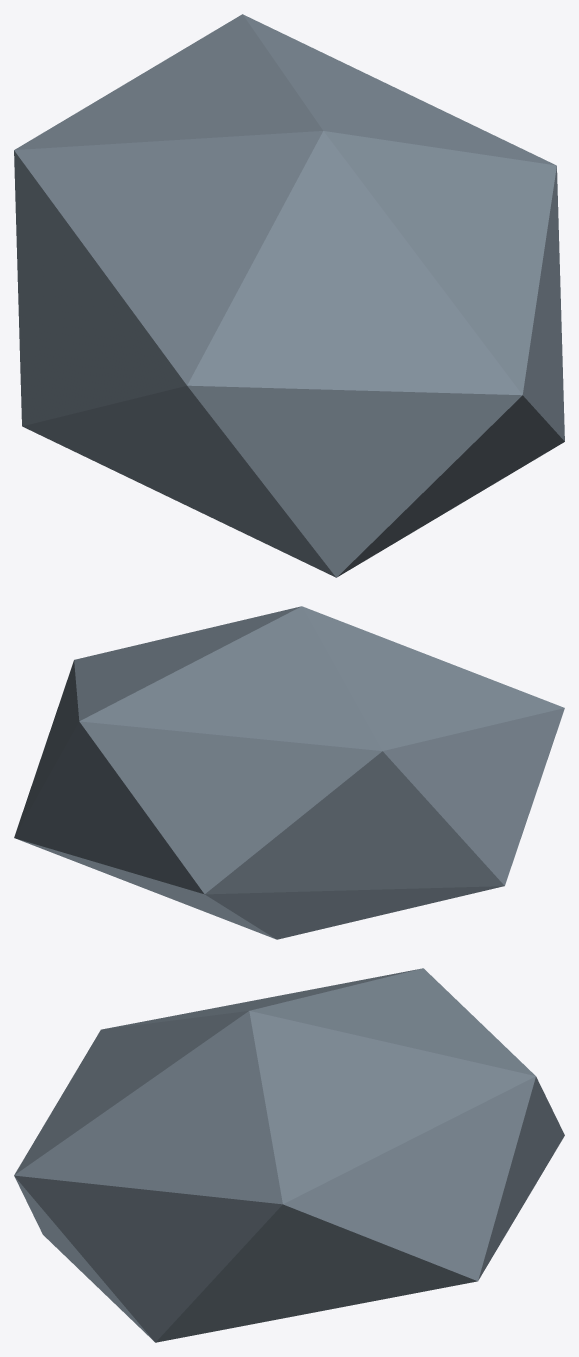
File: INT_A_WallRubble_00_Stone_3.glb
3 views of the same model, one above another, from view 1: azimuth 30°, elevation 25°; view 2: azimuth 150°, elevation 25°; view 3: azimuth 270°, elevation 25° (orthographic). The views are drawn at different scales.
Visible parts, largest first — view 1: INT_A_WallRubble_00_Stone_3; view 2: INT_A_WallRubble_00_Stone_3; view 3: INT_A_WallRubble_00_Stone_3.
Boxes of the visible parts, bbox=[...] form: INT_A_WallRubble_00_Stone_3: bbox=[14, 14, 564, 577]; INT_A_WallRubble_00_Stone_3: bbox=[14, 606, 564, 939]; INT_A_WallRubble_00_Stone_3: bbox=[14, 968, 564, 1342].
Size of the model in its own units: 0.3255 by 0.2134 by 0.3589.
